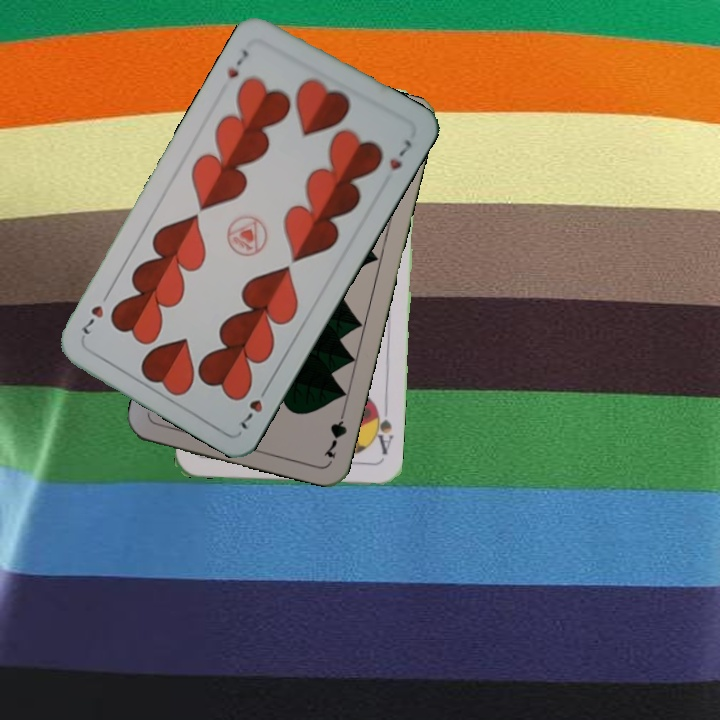G7: (319, 403, 350, 461)
H7: (235, 380, 272, 433), (223, 45, 252, 81)
SA: (368, 402, 396, 457)
